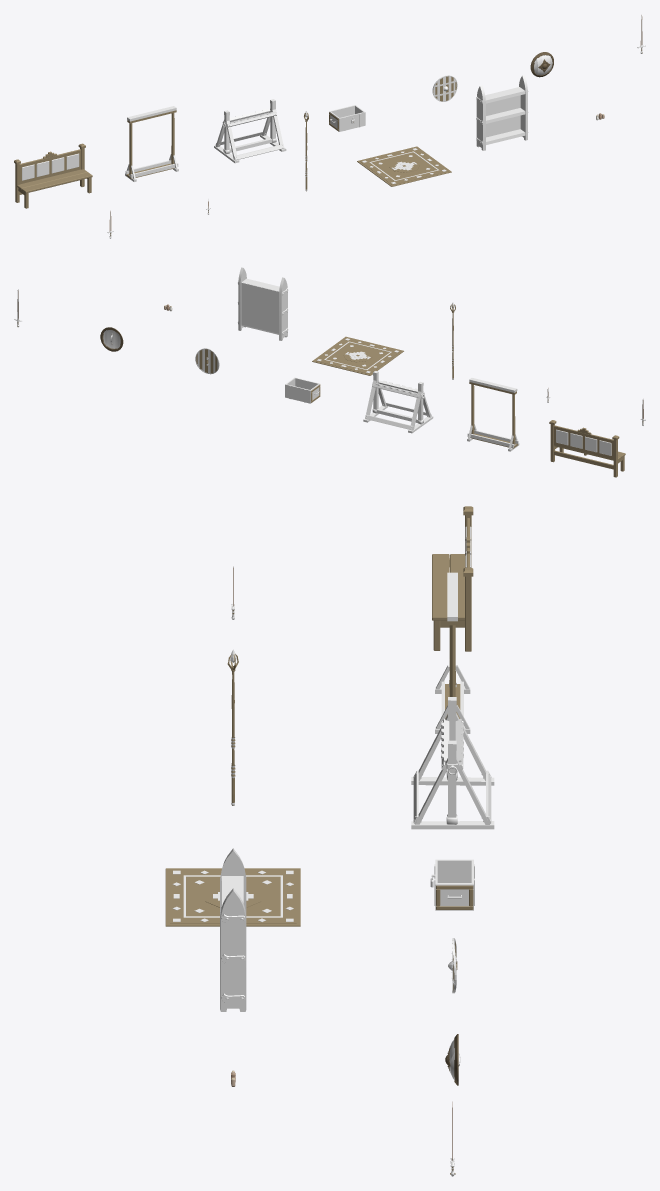
Rendered from props_int_clases.glb.
3 views of the same model, one above another, from view 1: azimuth 30°, elevation 25°; view 2: azimuth 150°, elevation 25°; view 3: azimuth 270°, elevation 25° (orthographic). The views are drawn at different scales.
Visible parts, largest first — view 1: PROP_Q_Shelf_Arch, PROP_AV_Pew, PROP_AV_Rug, PROP_Q_WeaponStand, PROP_AV_Rack, PROP_AV_Chest, PROP_AV_Shield_Round, PROP_Q_Shield_Wooden; view 2: PROP_Q_Shelf_Arch, PROP_AV_Pew, PROP_AV_Rug, PROP_Q_WeaponStand, PROP_AV_Rack, PROP_AV_Chest, PROP_AV_Shield_Round, PROP_Q_Shield_Wooden; view 3: PROP_AV_Rug, PROP_Q_WeaponStand, PROP_Q_Shelf_Arch, PROP_AV_Pew, PROP_AV_Chest, PROP_AV_Rack.
Boxes of the visible parts, box(x1,y1,x2,y2) form: PROP_Q_Shelf_Arch: box(476, 75, 528, 150); PROP_AV_Pew: box(14, 143, 92, 208); PROP_AV_Rug: box(357, 146, 451, 186); PROP_Q_WeaponStand: box(214, 99, 286, 163); PROP_AV_Rack: box(125, 106, 178, 181); PROP_AV_Chest: box(329, 105, 365, 131); PROP_AV_Shield_Round: box(432, 75, 457, 101); PROP_Q_Shield_Wooden: box(530, 52, 553, 77); PROP_Q_Shelf_Arch: box(238, 267, 288, 340); PROP_AV_Pew: box(549, 420, 625, 477); PROP_AV_Rug: box(312, 336, 403, 375); PROP_Q_WeaponStand: box(363, 371, 433, 433); PROP_AV_Rack: box(467, 378, 519, 451); PROP_AV_Chest: box(285, 377, 320, 403); PROP_AV_Shield_Round: box(195, 348, 219, 374); PROP_Q_Shield_Wooden: box(100, 327, 123, 351); PROP_AV_Rug: box(165, 868, 300, 926); PROP_Q_WeaponStand: box(411, 697, 494, 829); PROP_Q_Shelf_Arch: box(220, 848, 246, 1011); PROP_AV_Pew: box(432, 506, 473, 651); PROP_AV_Chest: box(430, 859, 474, 910); PROP_AV_Rack: box(435, 572, 470, 733).
Size of what is drawn, in the model's own units: 16.63 by 2.04 by 3.89.
14 materials, 12 textured.
